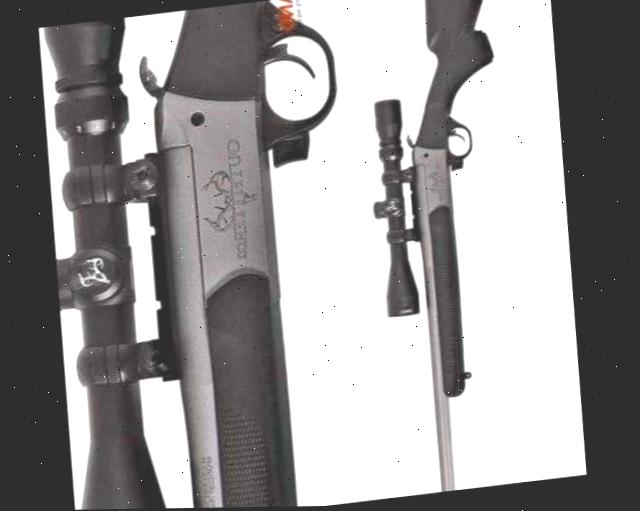rifle: (26, 0, 400, 511), (338, 0, 600, 499)
